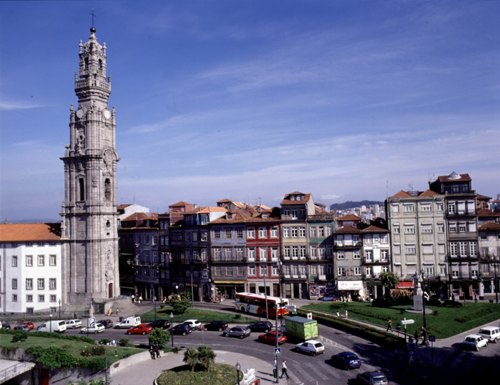clerigos: (58, 8, 122, 316)
